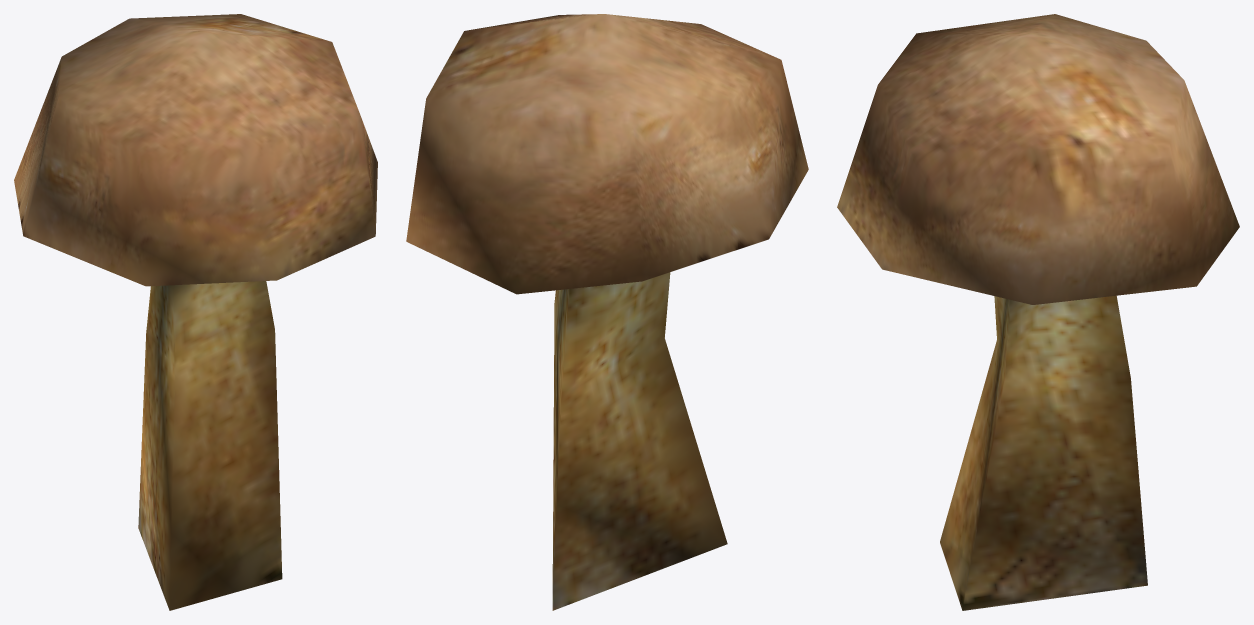
The model's file is Mushroom_05_a.fbx.
The picture shows the model from 3 angles, left to right: view 1: azimuth 30°, elevation 25°; view 2: azimuth 150°, elevation 25°; view 3: azimuth 270°, elevation 25°; orthographic projection. The views are drawn at different scales.
Parts seen in each view (by area): view 1: mushroom_05_a; view 2: mushroom_05_a; view 3: mushroom_05_a.
Part boxes in pixels (x1,y1,x2,y2): mushroom_05_a: (14,14,377,610); mushroom_05_a: (406,14,808,610); mushroom_05_a: (837,14,1239,610).
Bounding box in the file's own units: 0.3352 × 0.4954 × 0.3273.
